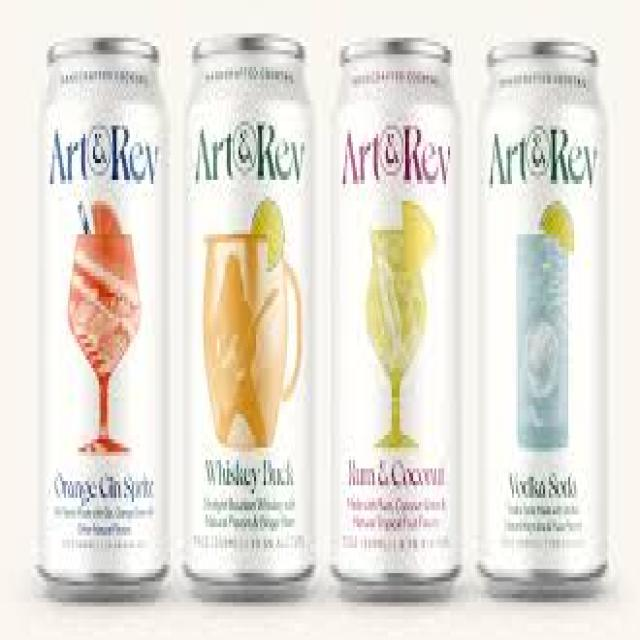Cans: (176, 21, 326, 611), (471, 29, 619, 611), (322, 29, 469, 598), (33, 29, 176, 607)
